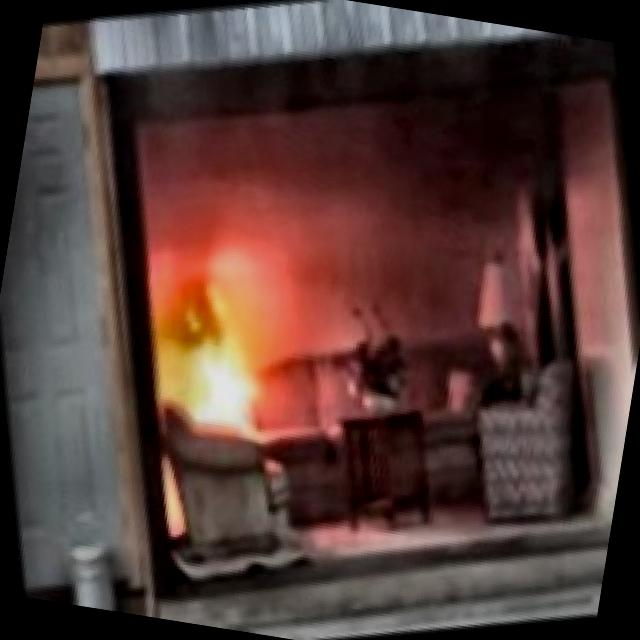fire: (124, 245, 285, 448)
